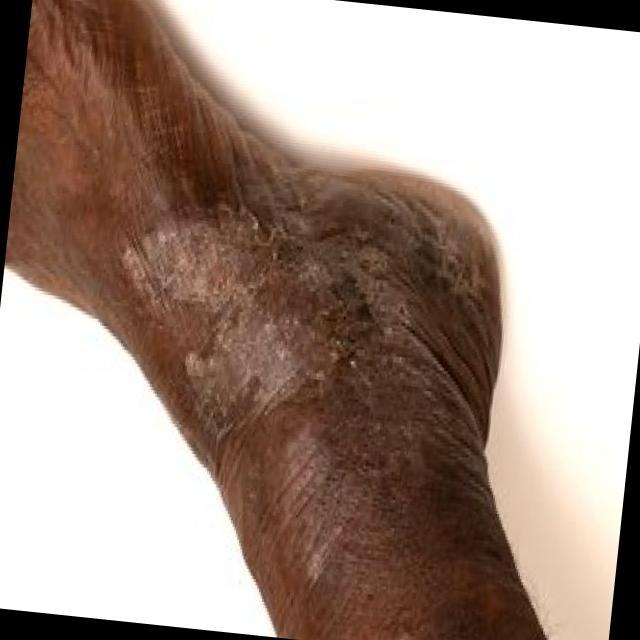Eczema: (102, 195, 478, 448)
